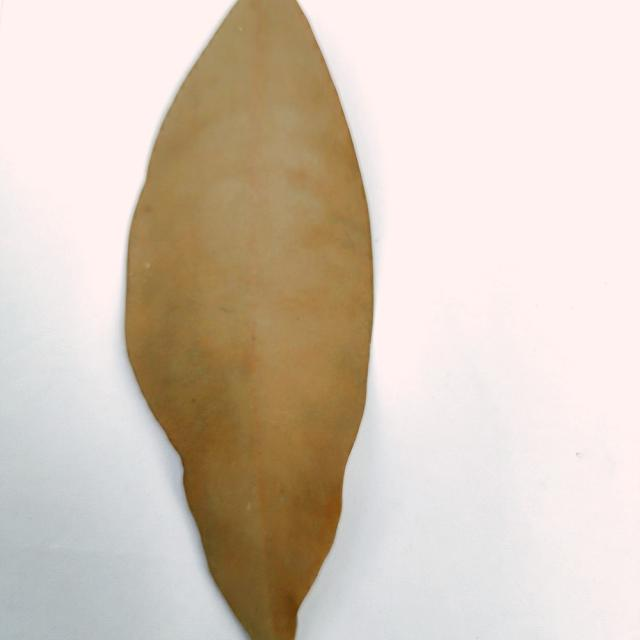Dry_Leaf-Lychee: (123, 0, 375, 639)
